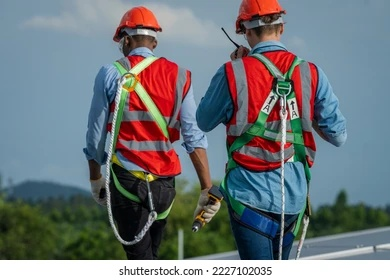Helmet: (113, 6, 165, 41), (236, 2, 286, 28)
Person: (212, 0, 317, 261), (90, 3, 186, 259)
Safety_Harness: (219, 46, 312, 261), (101, 59, 183, 243)
